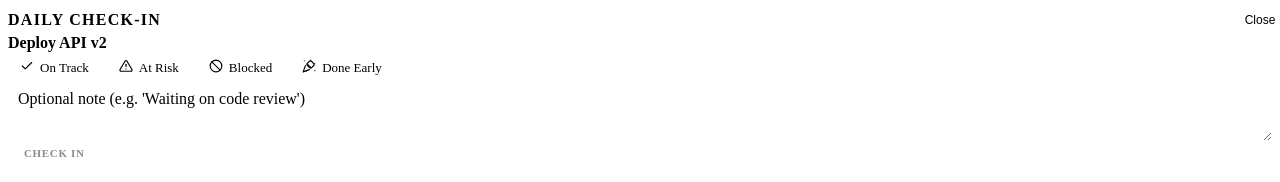
it: QuickCheckIn › submit button is enabled after a status is selected
This screenshot has width=1280, height=182.
Click the button with test id "check-in-status-on_track" at (54, 68), box [8,54,101,81]
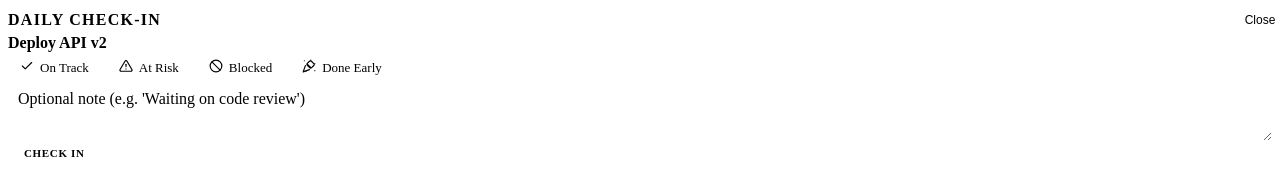
Expected: the button with test id "check-in-submit" is enabled, [8,141,101,165]
